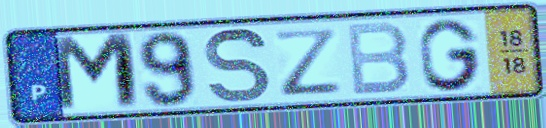9: (133, 28, 200, 111)
B: (343, 20, 413, 98)
G: (416, 16, 484, 94)
M: (48, 30, 145, 116)
S: (202, 25, 275, 106)
Z: (270, 26, 344, 99)
